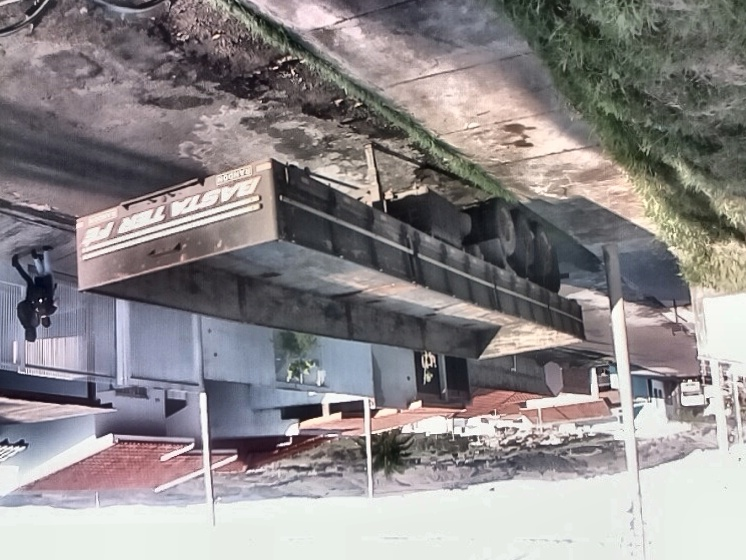person: (8, 248, 40, 345), (30, 244, 59, 327)
